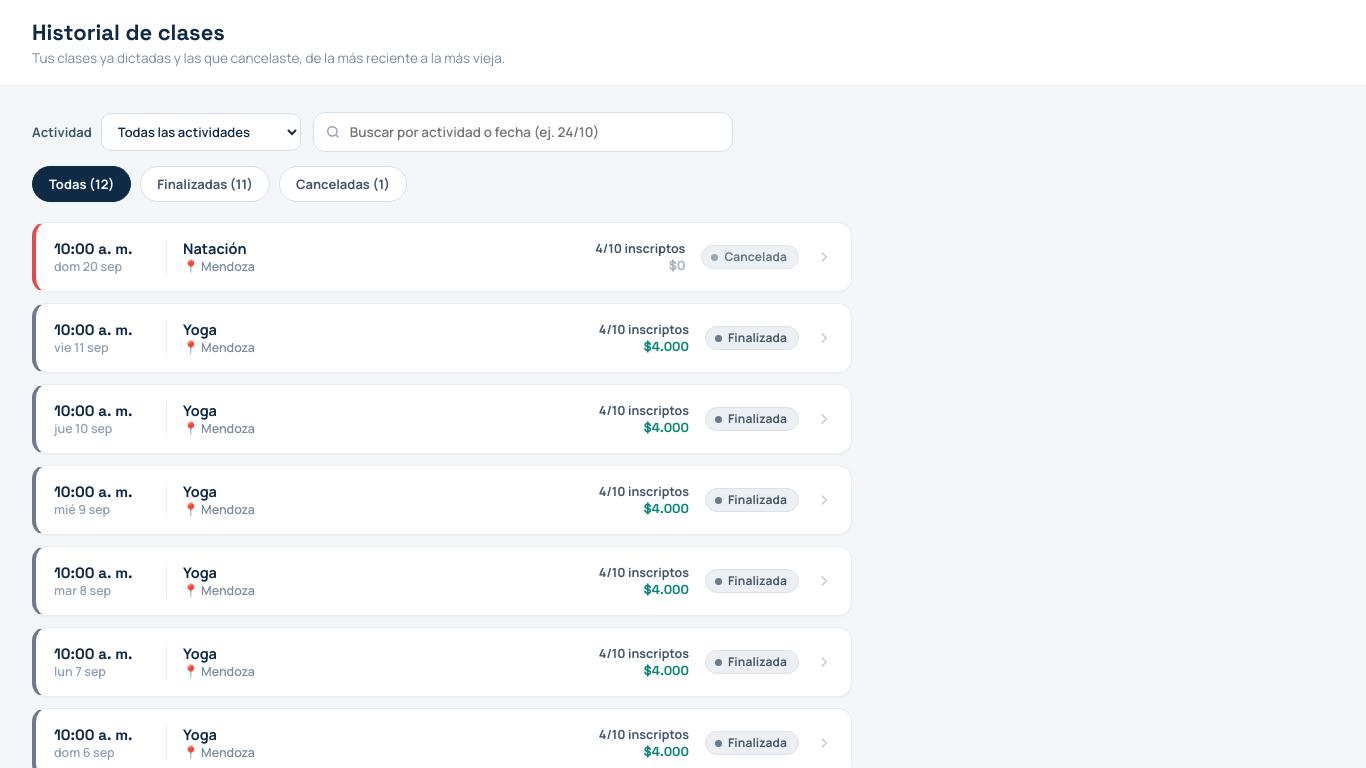
historial del instructor › la lupa busca por nombre de la actividad y los contadores la siguen
expect the button "Todas (12)" is shown: met, box [32,166,131,202]
In the search field named "Buscar clases": (523, 132) [313,112,733,152], type "natacion"
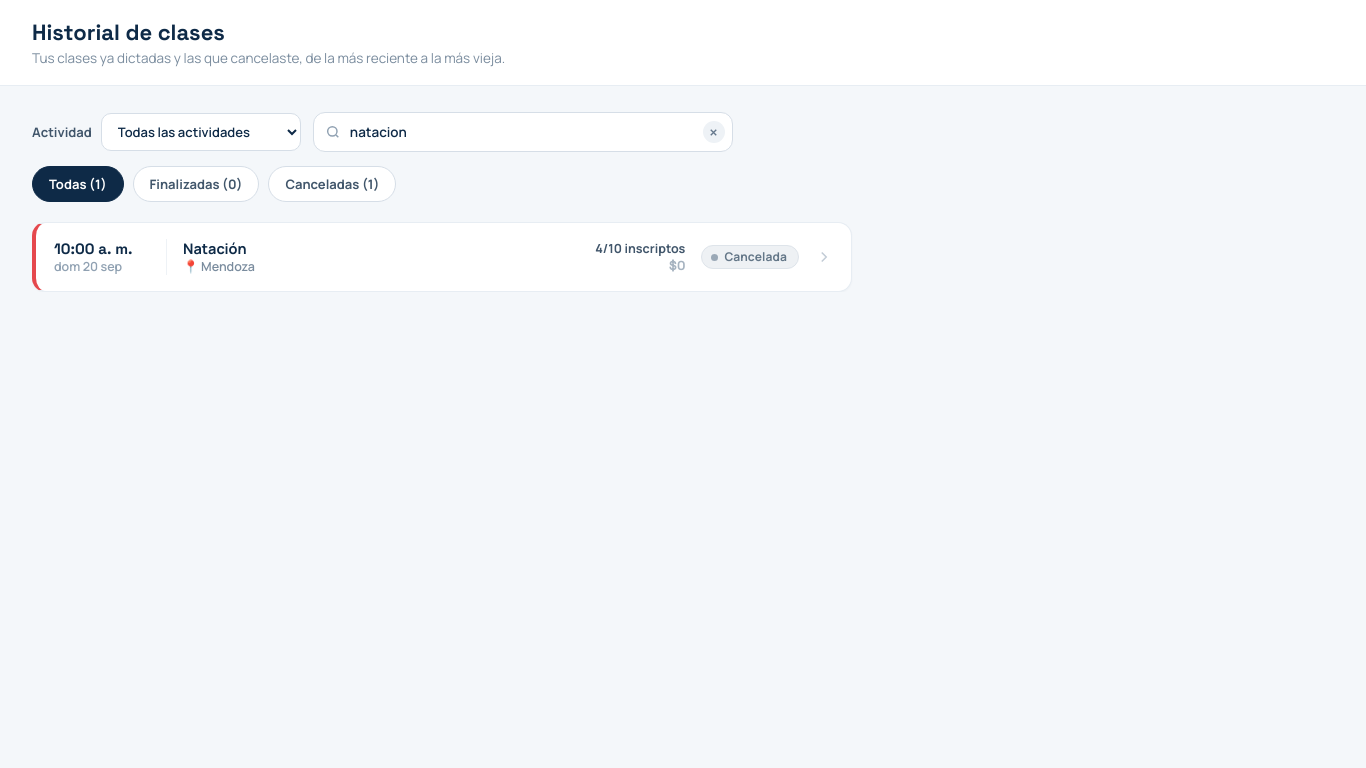
expect the button "Canceladas (1)" is shown: met, box [268,166,396,202]
expect the number of buttons titled "Ver el detalle de la clase" is 1: met, box [32,222,852,292]
expect the button "Todas (1)" is shown: met, box [32,166,124,202]
